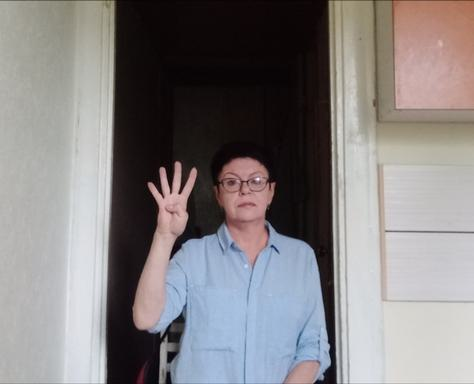four: (145, 160, 201, 240)
